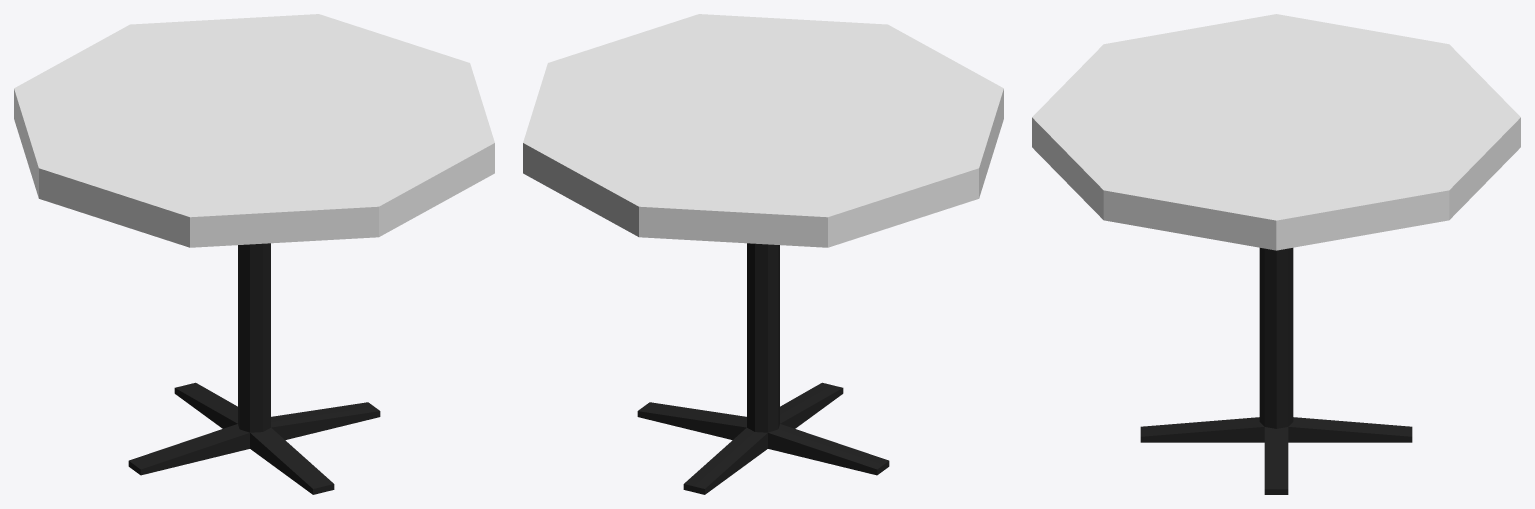
The model's file is table2.gltf.
3 renders of one model, left to right at view 1: azimuth 30°, elevation 25°; view 2: azimuth 150°, elevation 25°; view 3: azimuth 270°, elevation 25°, orthographic.
Parts seen in each view (by area): view 1: Cube; view 2: Cube; view 3: Cube.
Part boxes in pixels (bbox=[...]): Cube: bbox=[14, 14, 494, 494]; Cube: bbox=[523, 14, 1003, 494]; Cube: bbox=[1032, 14, 1520, 494].
Bounding box in the file's own units: 2 × 1.45 × 2.
1 material, 1 textured.
